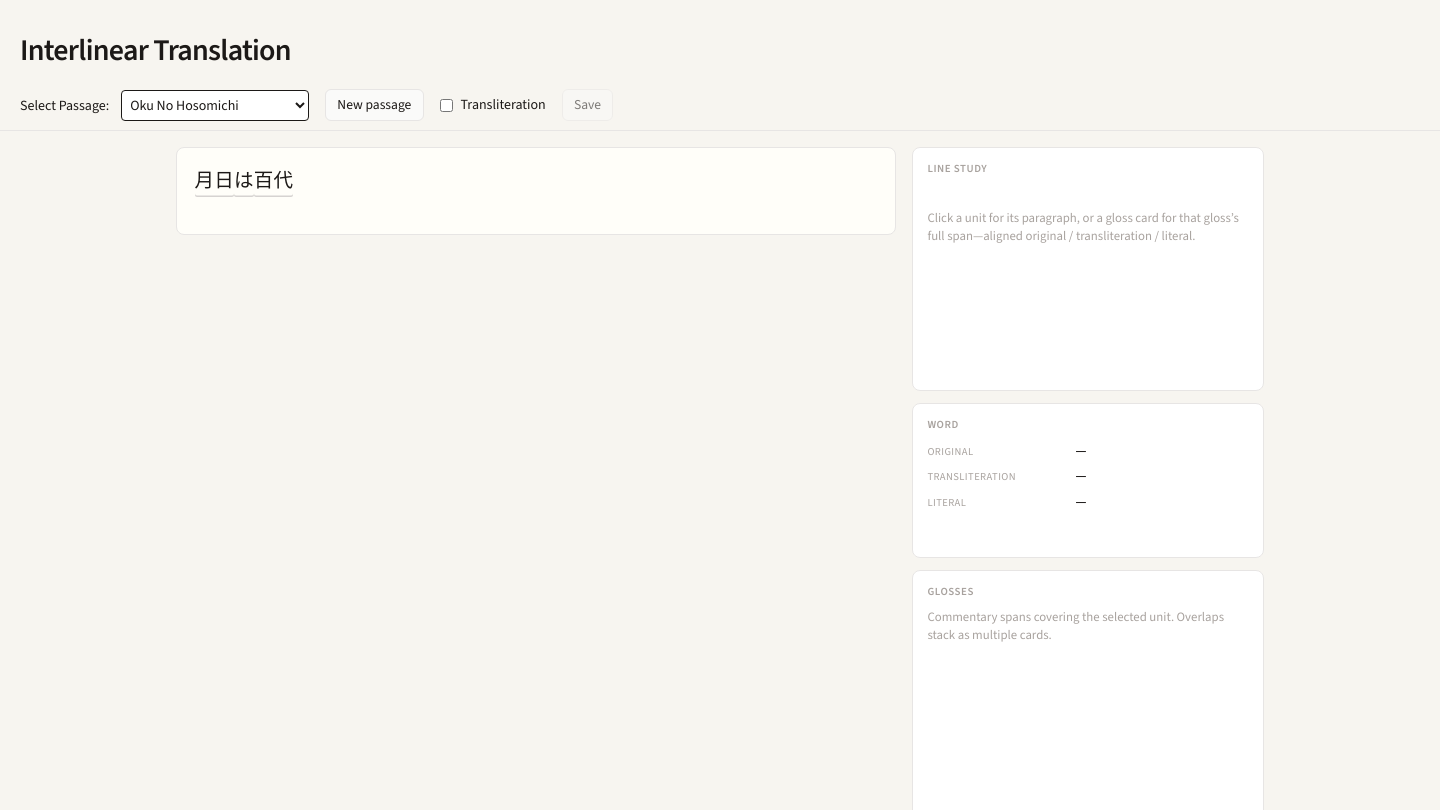
Test: App component › toggles transliteration without removing reserved sub-line
The width and height of the screenshot is (1440, 810).
Expected: the button "月日" is shown, [195, 164, 234, 197]
Click the checkbox labelled "Transliteration" at (446, 105), box [440, 99, 452, 112]
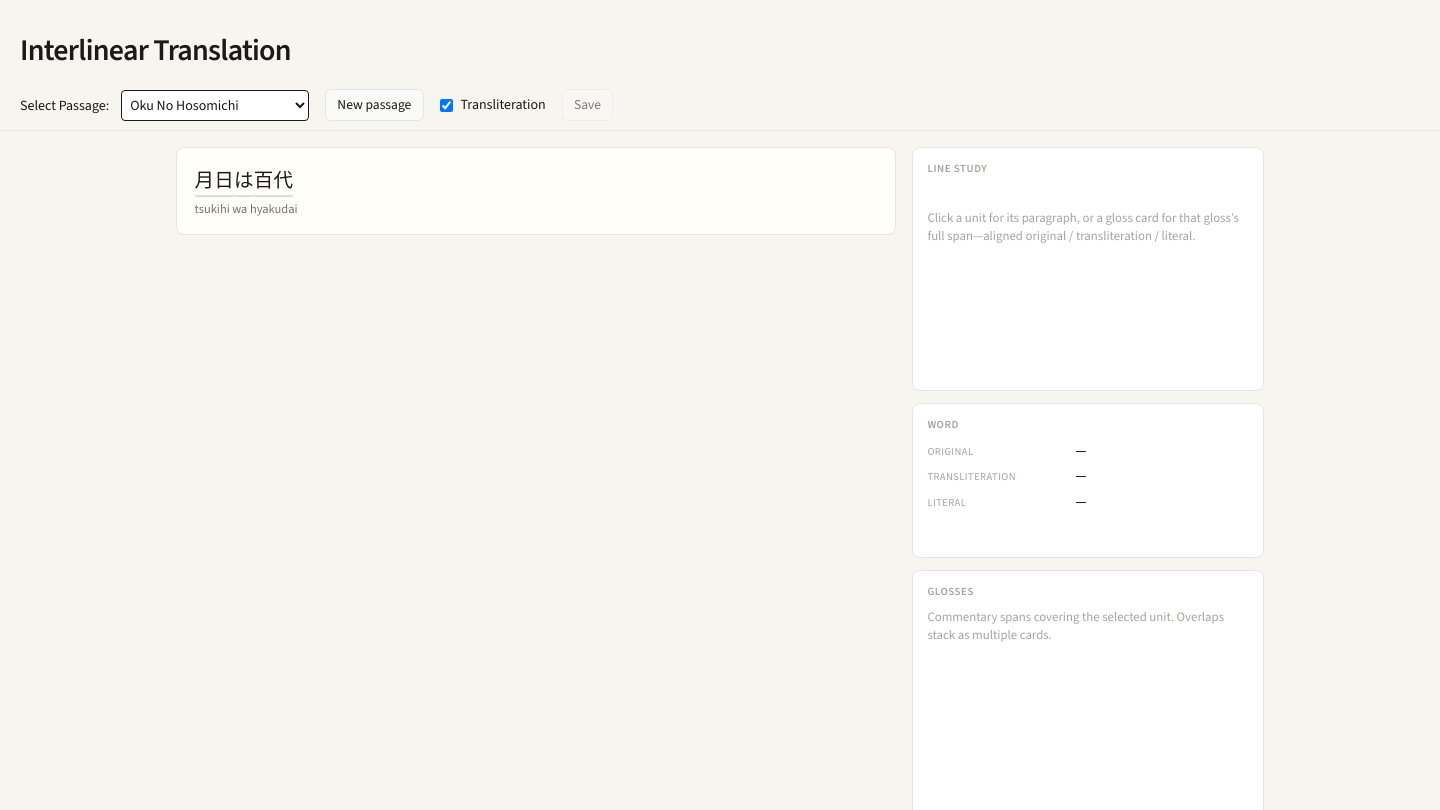
Expected: the checkbox labelled "Transliteration" is checked, [440, 99, 452, 112]
Expected: the button "tsukihi" is shown, [195, 200, 230, 218]
